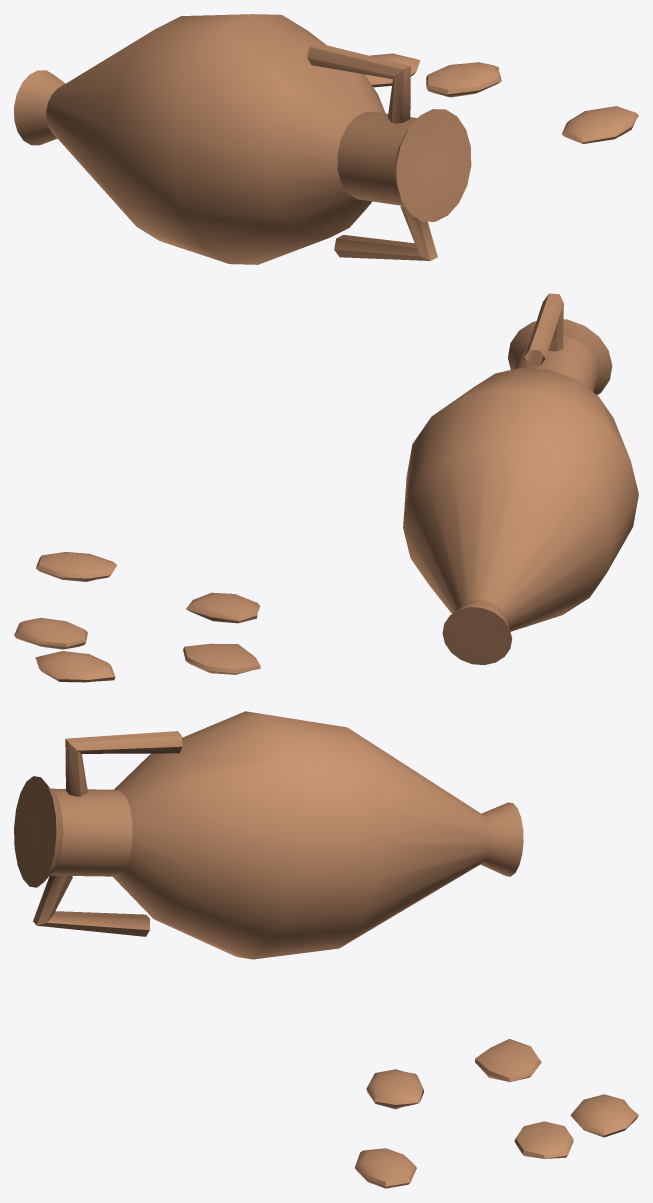
Rendered from amphora_fallen.glb.
The picture shows the model from 3 angles, top to bottom: view 1: azimuth 30°, elevation 25°; view 2: azimuth 150°, elevation 25°; view 3: azimuth 270°, elevation 25°; orthographic projection. The views are drawn at different scales.
Parts seen in each view (by area): view 1: boat_terracotta; view 2: boat_terracotta; view 3: boat_terracotta.
Part boxes in pixels (x1,y1,x2,y2): boat_terracotta: [14, 14, 638, 264]; boat_terracotta: [14, 293, 638, 682]; boat_terracotta: [14, 711, 638, 1188].
Size of the model in its own units: 1.04 by 0.4719 by 1.
